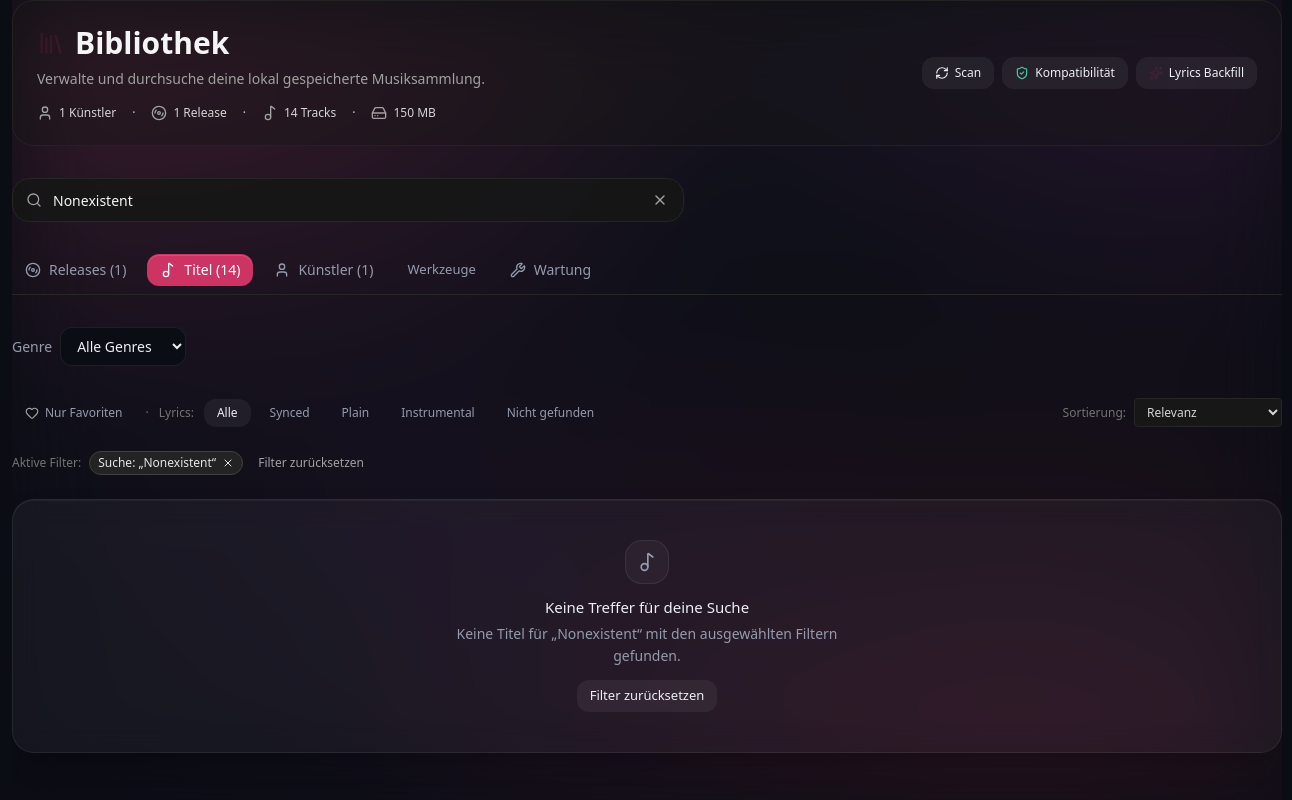
Test: Library Page › displays empty state with reset button when search has no results
The width and height of the screenshot is (1292, 800).
Expected: the text "Keine Treffer für deine Suche" is shown, [545,597,749,617]
Expected: the text "Keine Titel für „Nonexistent“ mit den ausgewählten Filtern gefunden." is shown, [423,622,871,668]
Step 1. Click the button "Filter zurücksetzen" in the row of "Suche: „" → (311,463), box [251,451,371,475]
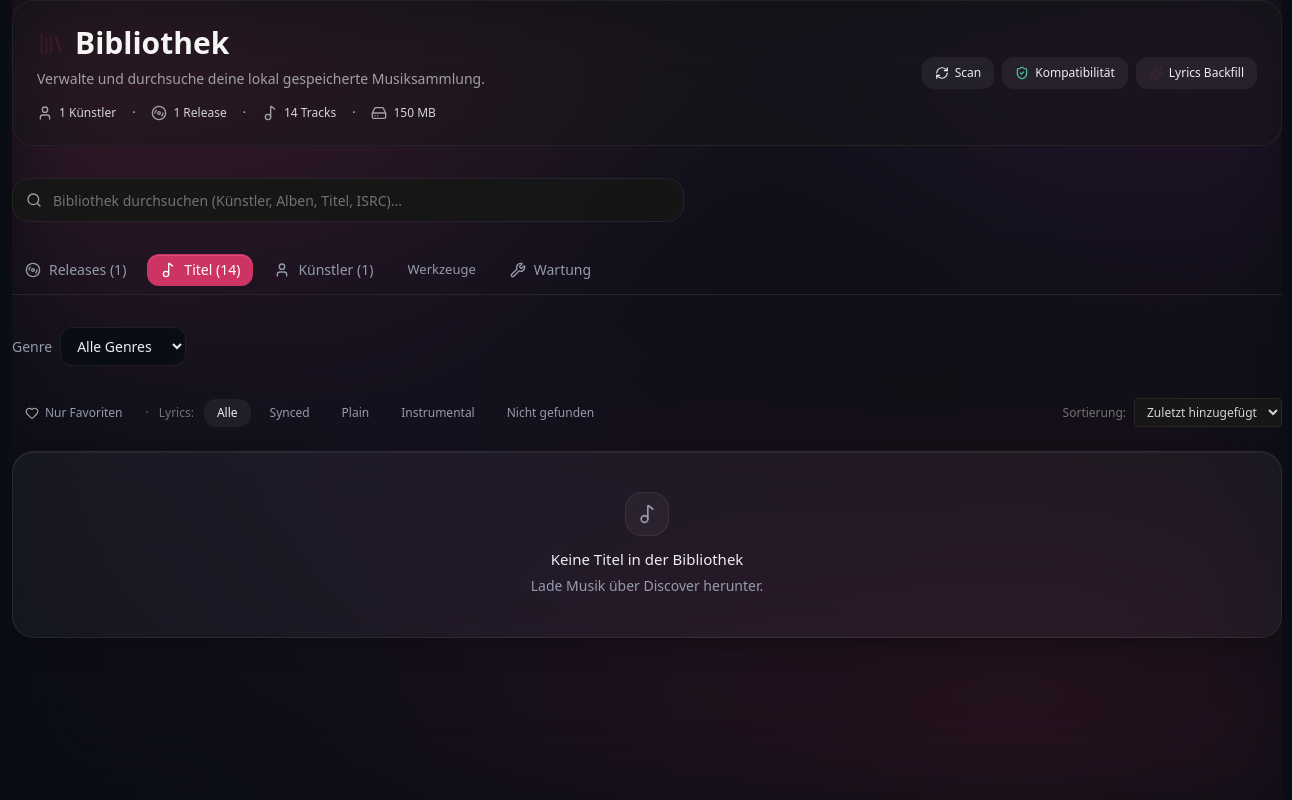
Expected: the text "Keine Titel für „Nonexistent“ mit den ausgewählten Filtern gefunden." is gone
